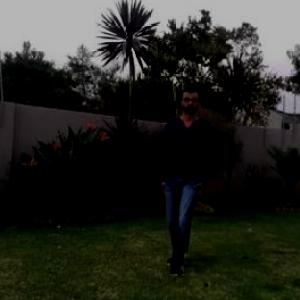follow: (158, 90, 207, 255)
